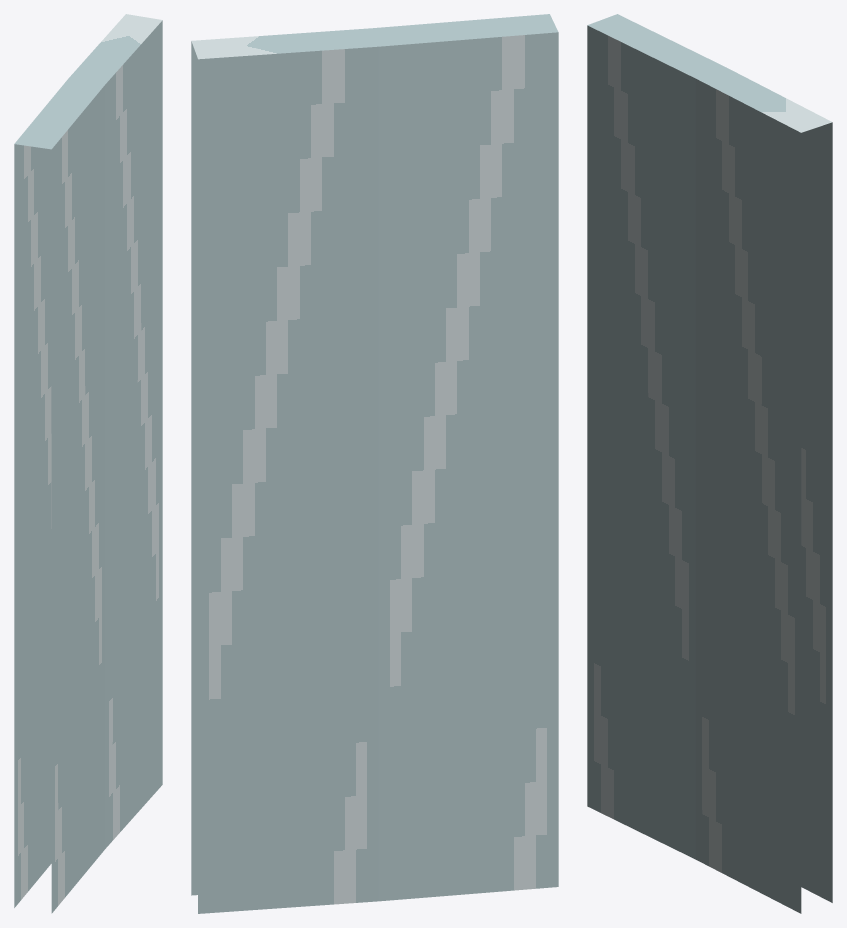
Rendered from curve_glass_08.obj.
3 renders of one model, left to right at view 1: azimuth 30°, elevation 25°; view 2: azimuth 150°, elevation 25°; view 3: azimuth 270°, elevation 25°, orthographic. The views are drawn at different scales.
Parts seen in each view (by area): view 1: curve_glass_08; view 2: curve_glass_08; view 3: curve_glass_08.
Boxes of the visible parts, x1,y1,x2,y2 form: curve_glass_08: [14, 14, 162, 913]; curve_glass_08: [191, 14, 558, 913]; curve_glass_08: [587, 14, 832, 913].
Bounding box in the file's own units: 0.3265 × 1 × 0.2849.
